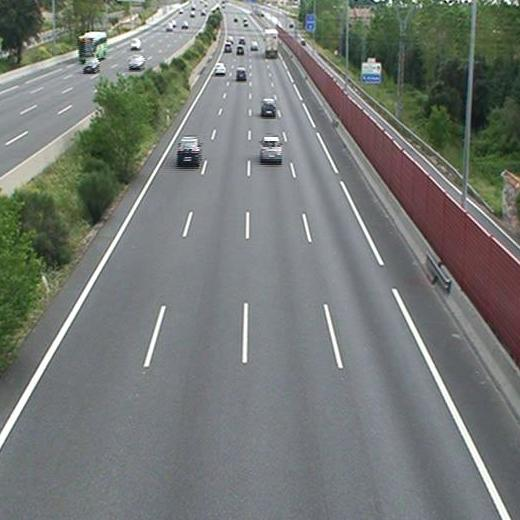car: (176, 138, 200, 162), (261, 138, 282, 160), (261, 98, 275, 114), (235, 68, 247, 79), (215, 63, 226, 74), (249, 40, 258, 49), (223, 42, 232, 51), (236, 45, 244, 53)
truck: (264, 29, 279, 57)
